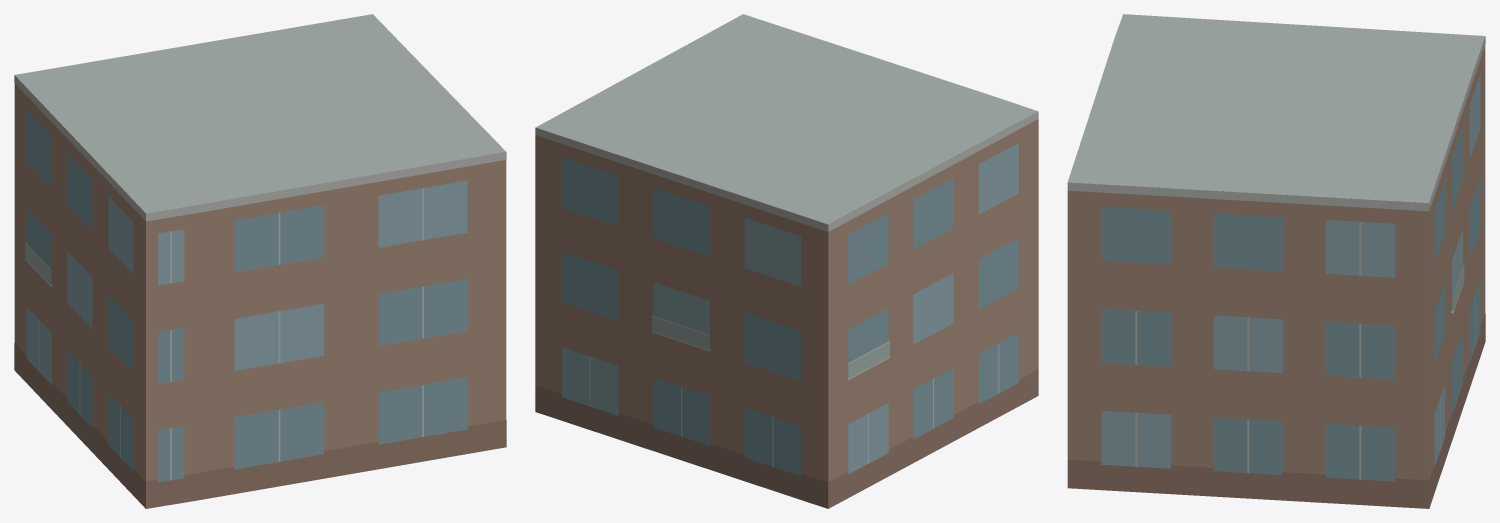
Rendered from survey-upis-32828225.glb.
3 renders of one model, left to right at view 1: azimuth 30°, elevation 25°; view 2: azimuth 150°, elevation 25°; view 3: azimuth 270°, elevation 25°, orthographic. The views are drawn at different scales.
Parts seen in each view (by area): view 1: survey-upis-32828225.tmp; view 2: survey-upis-32828225.tmp; view 3: survey-upis-32828225.tmp.
Part boxes in pixels (<box>): survey-upis-32828225.tmp: <box>14,14,506,508</box>; survey-upis-32828225.tmp: <box>535,14,1038,508</box>; survey-upis-32828225.tmp: <box>1067,14,1485,508</box>.
Size of the model in its own units: 12.16 by 9.15 by 11.35.
